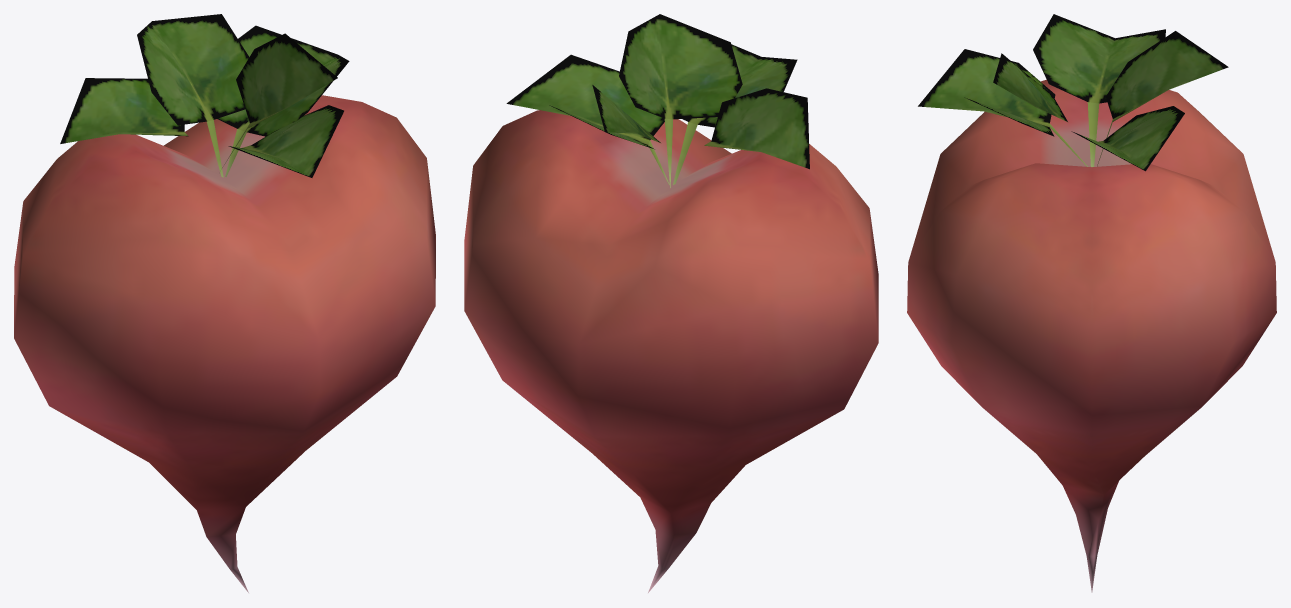
File: Obj_Plant_Get_Radish_A_02.glb
The picture shows the model from 3 angles, left to right: view 1: azimuth 30°, elevation 25°; view 2: azimuth 150°, elevation 25°; view 3: azimuth 270°, elevation 25°; orthographic projection. The views are drawn at different scales.
Parts seen in each view (by area): view 1: Obj_Plant_Get_Radish_A_02; view 2: Obj_Plant_Get_Radish_A_02; view 3: Obj_Plant_Get_Radish_A_02.
Boxes of the visible parts, box(x1,y1,x2,y2) form: Obj_Plant_Get_Radish_A_02: box(14, 14, 435, 592); Obj_Plant_Get_Radish_A_02: box(464, 14, 878, 592); Obj_Plant_Get_Radish_A_02: box(907, 14, 1276, 592).
Bounding box in the file's own units: 0.7368 × 0.9341 × 0.5742.
Materials: 1 (1 with a texture image).
